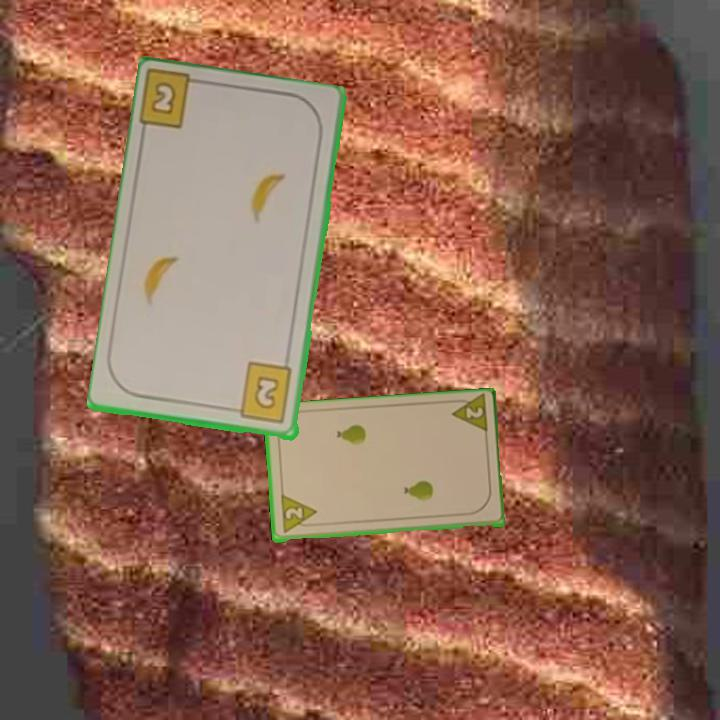2b: (138, 69, 210, 133), (228, 360, 296, 427)
2p: (446, 393, 490, 437), (277, 493, 320, 537)
